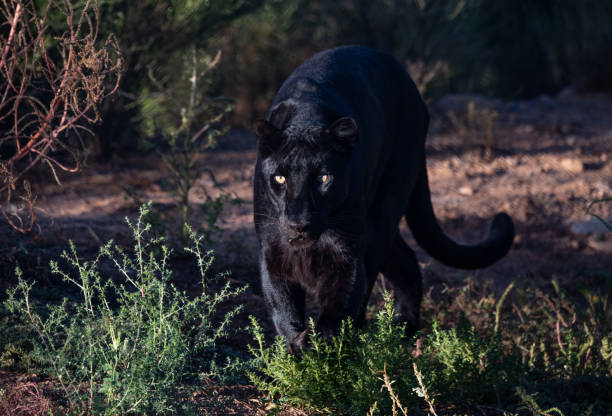panther: (250, 115, 372, 259)
